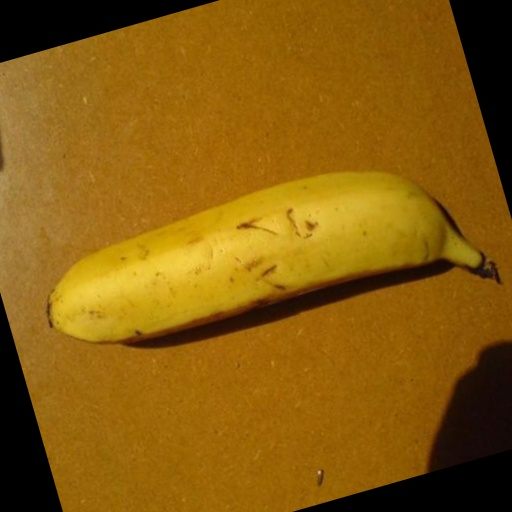fruit: (0, 182, 142, 485)
